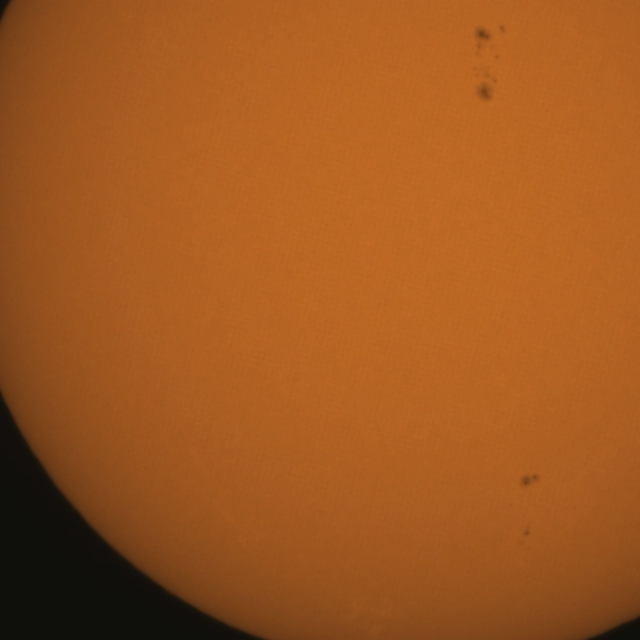sunspot: (472, 22, 504, 60), (472, 65, 499, 104), (518, 472, 541, 489), (522, 526, 532, 539), (494, 53, 500, 61)
